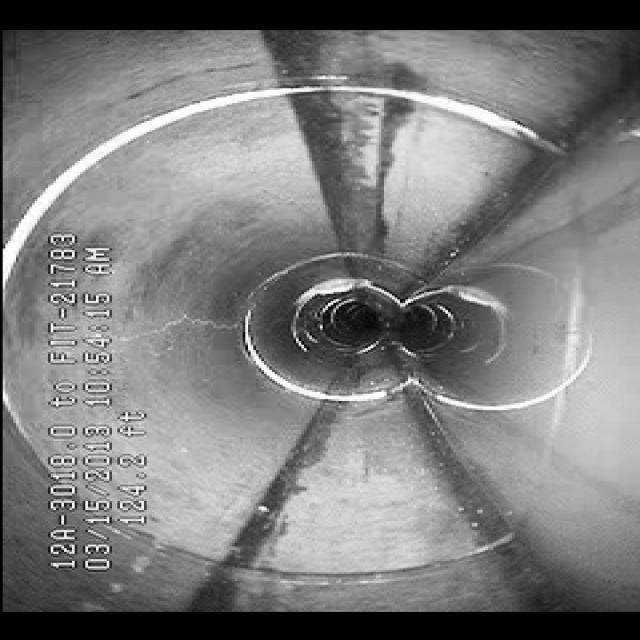Crack: (133, 304, 248, 336)
